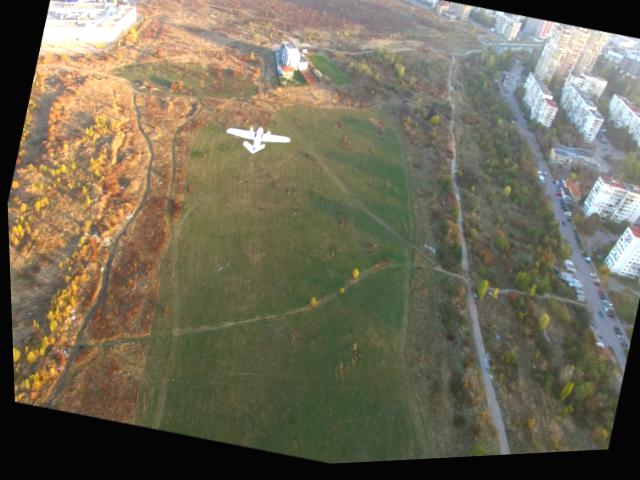plane: (219, 118, 293, 169)
